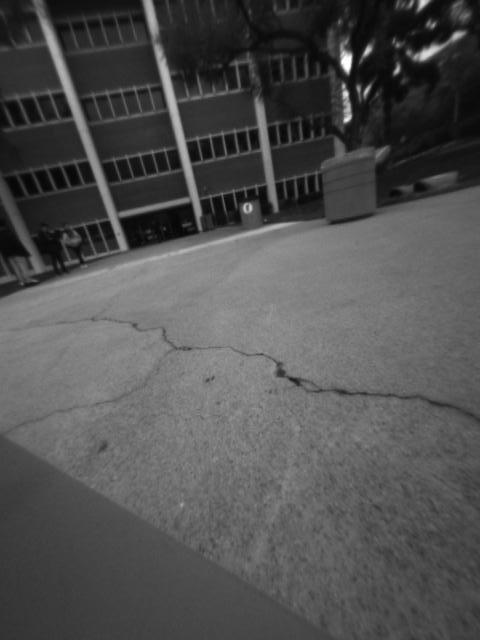trashcan: (319, 144, 382, 224), (236, 197, 265, 229)
